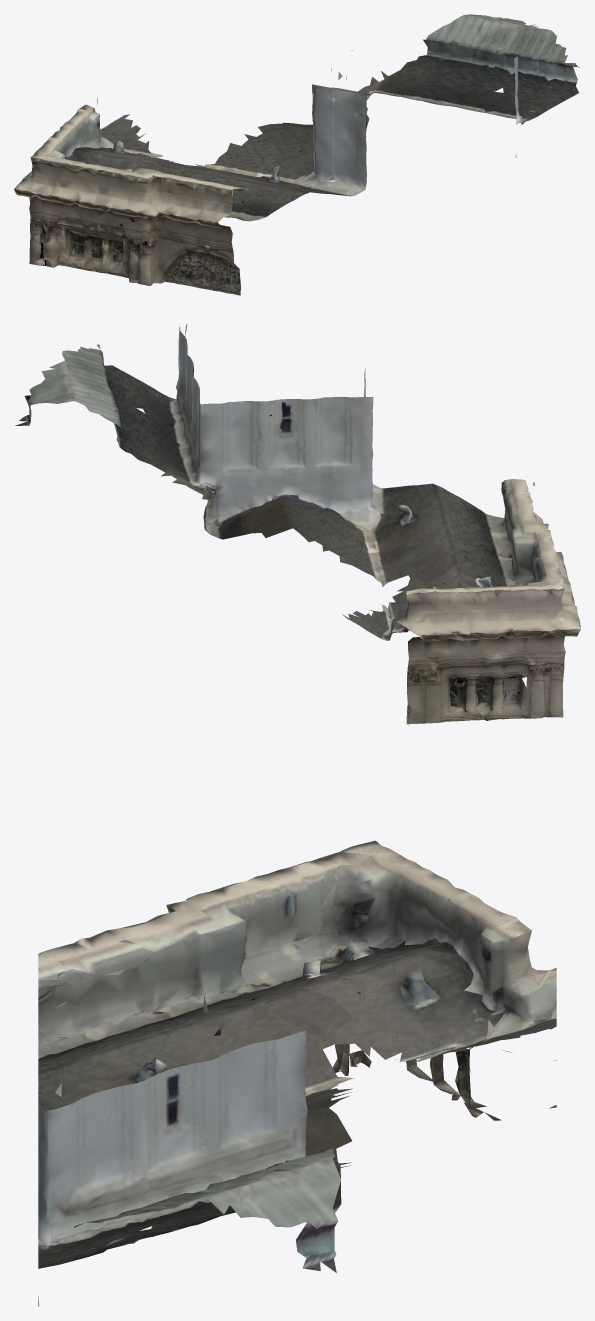
3 renders of one model, top to bottom at view 1: azimuth 30°, elevation 25°; view 2: azimuth 150°, elevation 25°; view 3: azimuth 270°, elevation 25°, orthographic. The views are drawn at different scales.
Size of the model in its own units: 37.01 by 12.34 by 16.98.
Materials: 1 (1 with a texture image).
